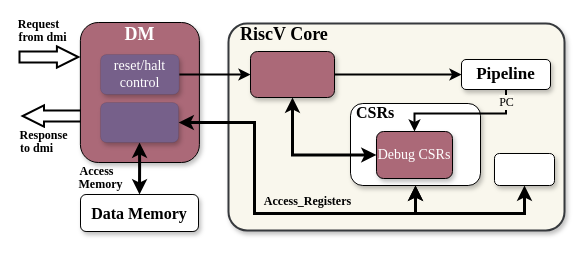
Image size: 588x256. Some labels were removed from this diagram. Each missing label, with the centre of its shape:
"abstract commands" belongs at (x=140, y=123).
"Debug Support" belongs at (x=293, y=75).
"GPRs" belongs at (x=525, y=170).
